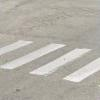Crosswalk: (6, 28, 94, 87)
